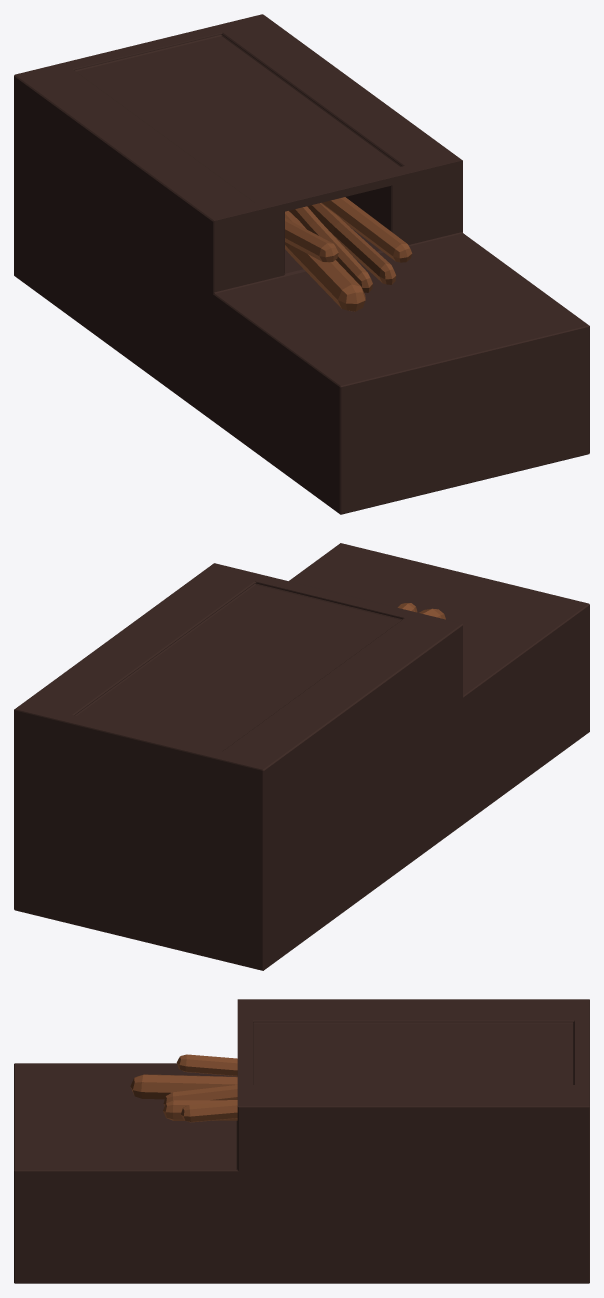
File: Forno a Lenha.fbx
3 renders of one model, top to bottom at view 1: azimuth 30°, elevation 25°; view 2: azimuth 150°, elevation 25°; view 3: azimuth 270°, elevation 25°, orthographic. The views are drawn at different scales.
Visible parts, largest first — view 1: Cube, Cube.001, Cube.004, Cube.002, Cube.003, Cube.005; view 2: Cube; view 3: Cube, Cube.001, Cube.005, Cube.004, Cube.003, Cube.002.
Part boxes in pixels (x1,y1,x2,y2): Cube: (14, 14, 589, 514); Cube.001: (285, 211, 365, 311); Cube.004: (321, 197, 412, 262); Cube.002: (307, 203, 396, 284); Cube.003: (289, 206, 372, 292); Cube.005: (285, 218, 338, 262); Cube: (14, 543, 589, 970); Cube: (14, 999, 589, 1283); Cube.001: (130, 1074, 237, 1099); Cube.005: (176, 1054, 237, 1076); Cube.004: (181, 1100, 237, 1122); Cube.003: (163, 1085, 237, 1105); Cube.002: (163, 1100, 237, 1120).
Size of the model in its own units: 119 by 91.21 by 268.
